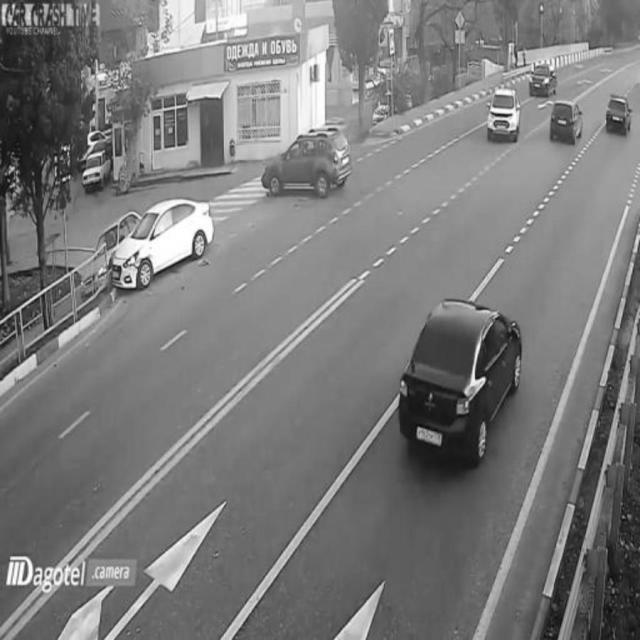accident: (82, 201, 214, 293)
vehicle: (402, 294, 523, 458), (258, 125, 350, 203), (485, 84, 522, 142), (550, 97, 586, 151), (81, 148, 111, 193), (604, 88, 632, 135), (527, 57, 557, 99)
